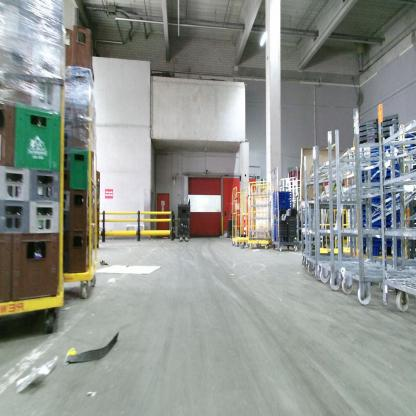pallet_truck: (174, 205, 192, 247)
